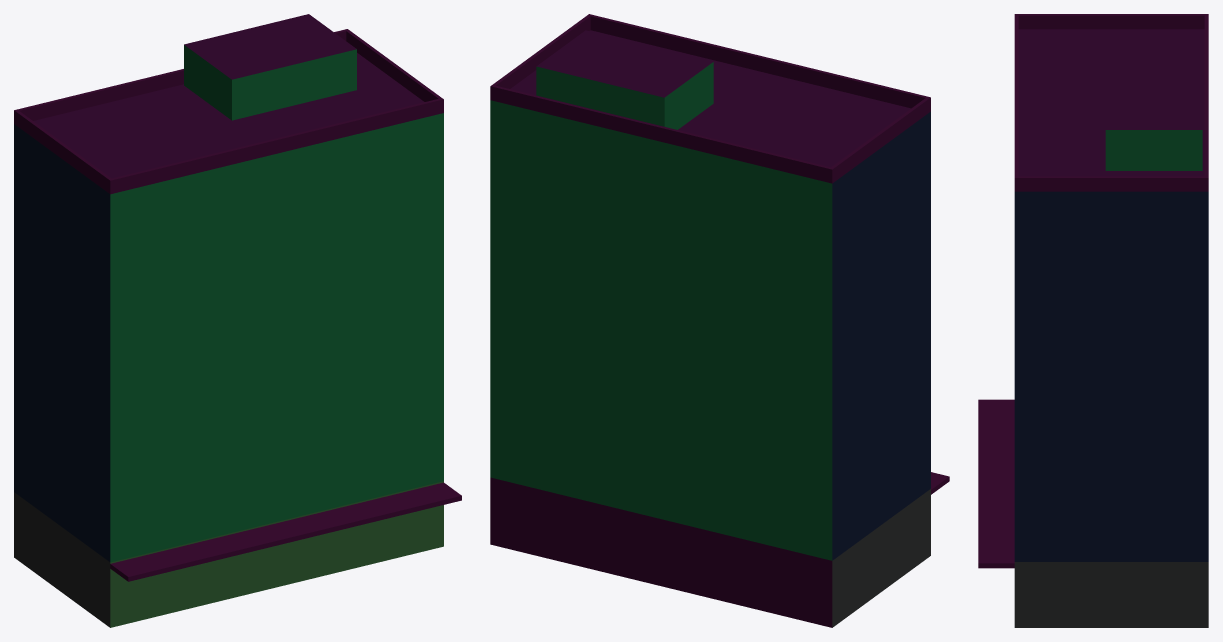
The model's file is fringe_e.glb.
3 views of the same model, side by side, from view 1: azimuth 30°, elevation 25°; view 2: azimuth 150°, elevation 25°; view 3: azimuth 270°, elevation 25° (orthographic). The views are drawn at different scales.
Parts seen in each view (by area): view 1: fringe_e; view 2: fringe_e; view 3: fringe_e.
Part boxes in pixels (x1=…): fringe_e: x1=14, y1=14, x2=461, y2=627; fringe_e: x1=490, y1=14, x2=949, y2=627; fringe_e: x1=978, y1=14, x2=1208, y2=627.
Bounding box in the file's own units: 25.6 × 34.8 × 15.2.
